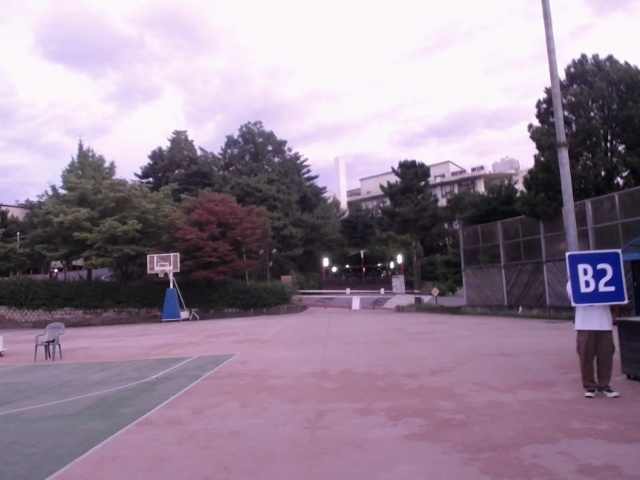delivery_b2: (566, 250, 628, 307)
